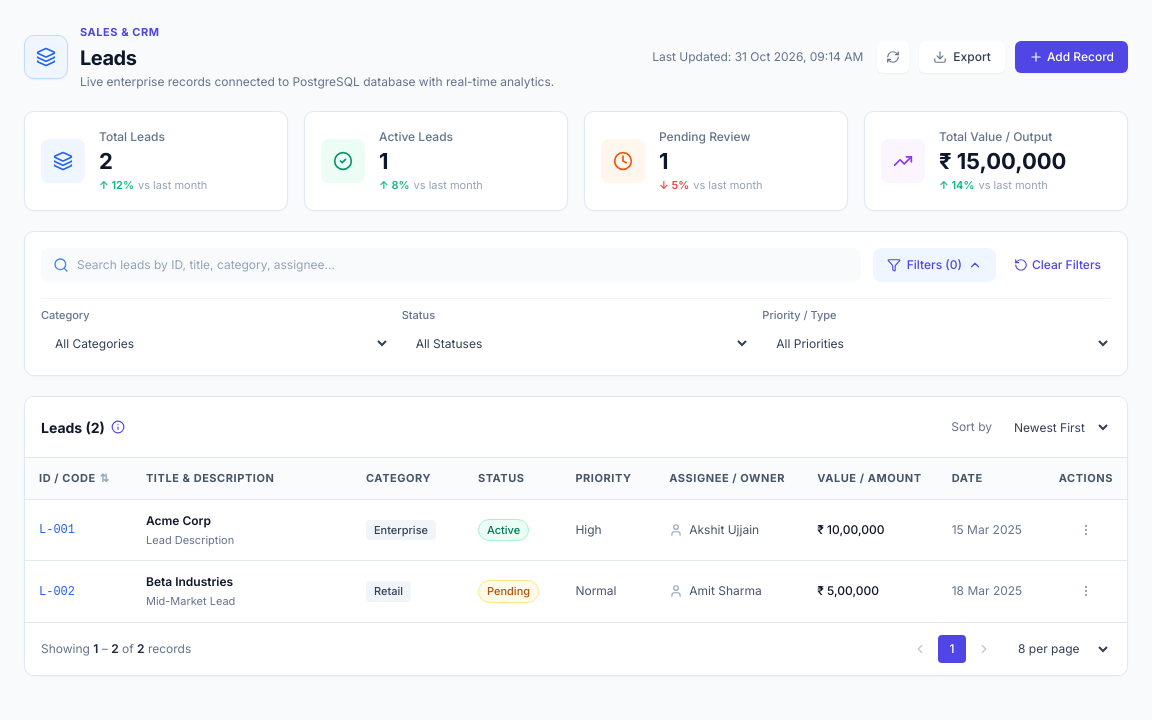
Dynamic Module Engine (ModulePlaceholder) › opens and closes Add Record modal
Click the button "Add Record" at (1071, 57), box [1015,41,1128,73]
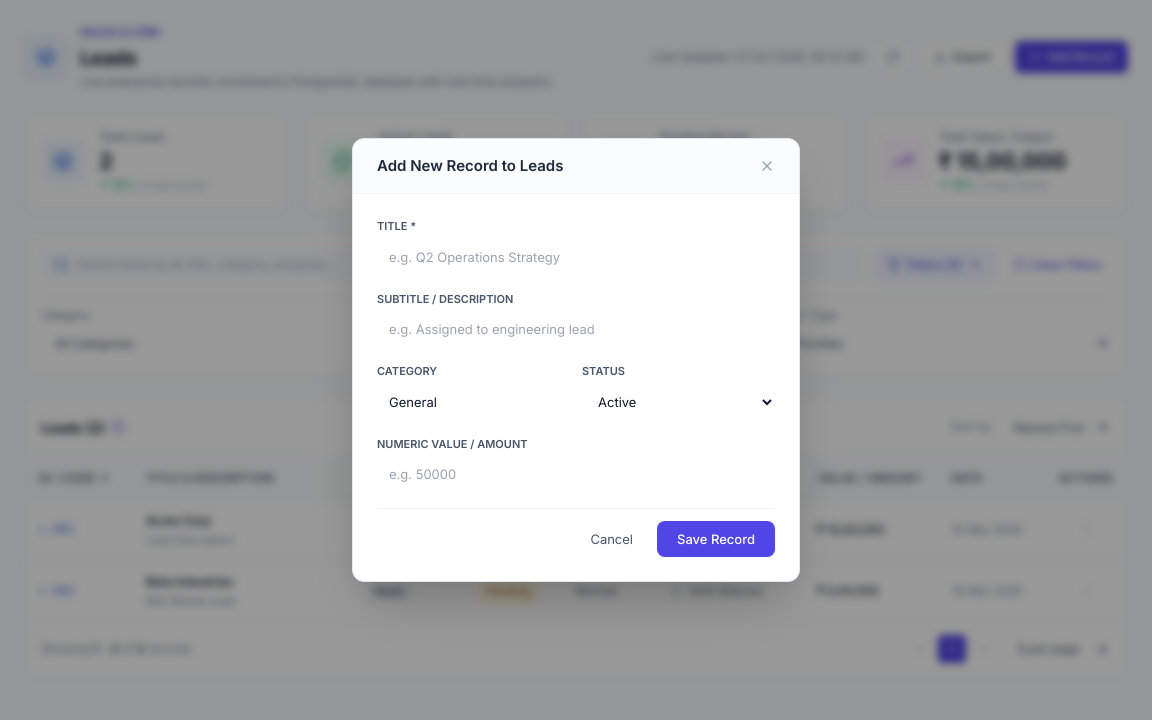
Now the heading "Add New Record to Leads" is shown, box [377,155,564,177]
Click the button "Cancel" at (612, 539), box [574,521,649,557]
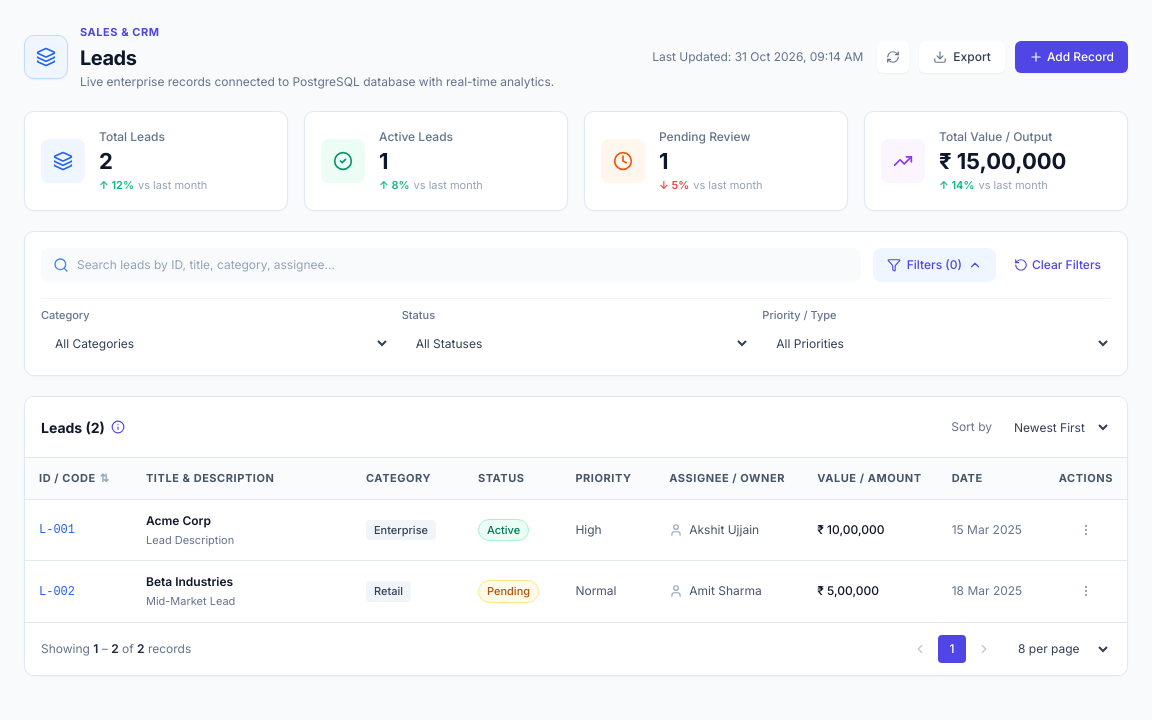
Now the heading "Add New Record to Leads" is gone
